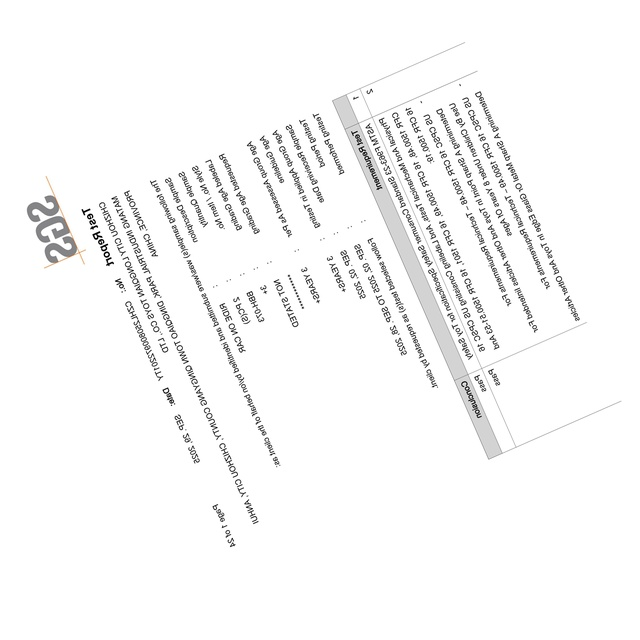sgs: (26, 193, 79, 266)
